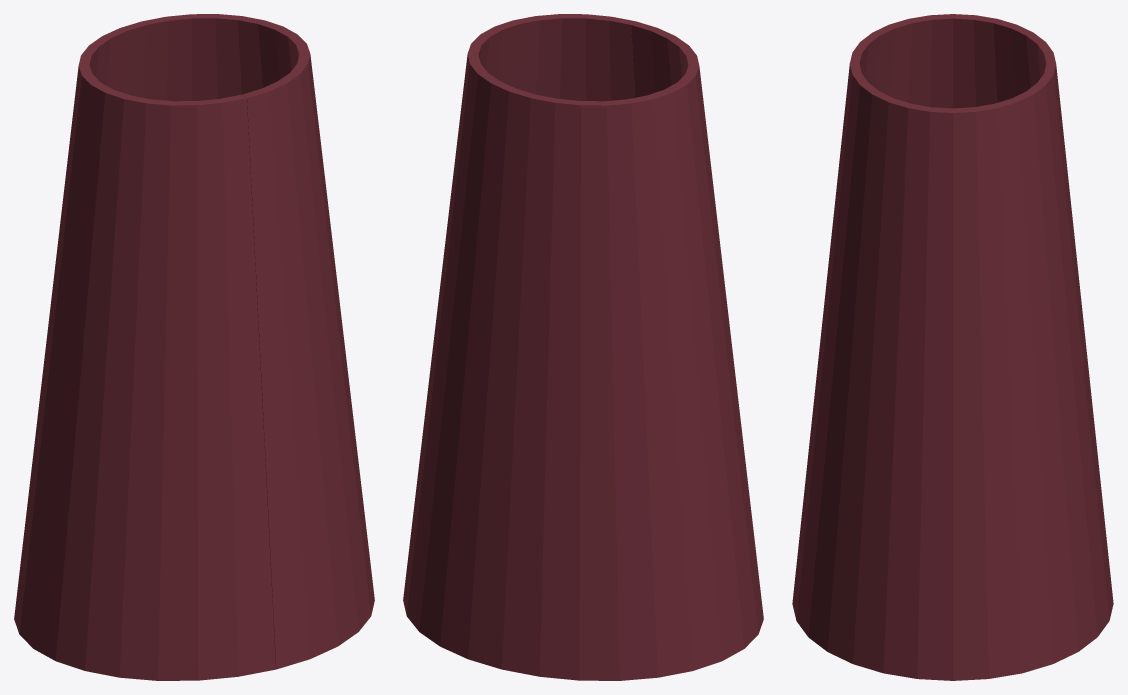
Rendered from SinSkirt.fbx.
The picture shows the model from 3 angles, left to right: view 1: azimuth 30°, elevation 25°; view 2: azimuth 150°, elevation 25°; view 3: azimuth 270°, elevation 25°; orthographic projection.
Parts seen in each view (by area): view 1: SinSkirt; view 2: SinSkirt; view 3: SinSkirt.
Boxes of the visible parts, x1,y1,x2,y2 form: SinSkirt: (14,14,374,680); SinSkirt: (403,14,763,680); SinSkirt: (792,14,1113,680).
Size of the model in its own units: 33 by 53.9 by 29.04.
